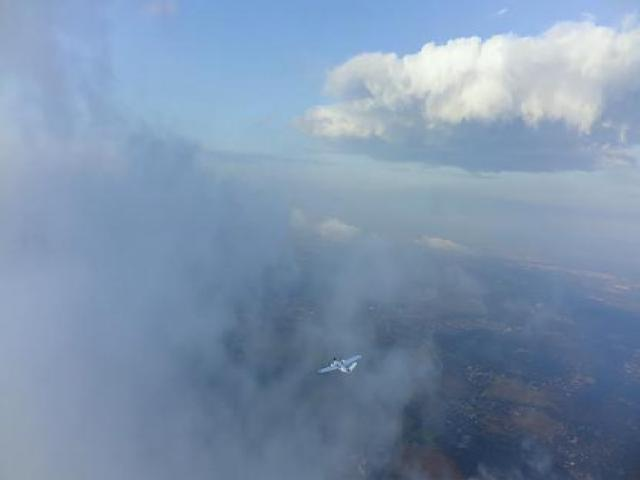uav: (314, 350, 366, 376)
